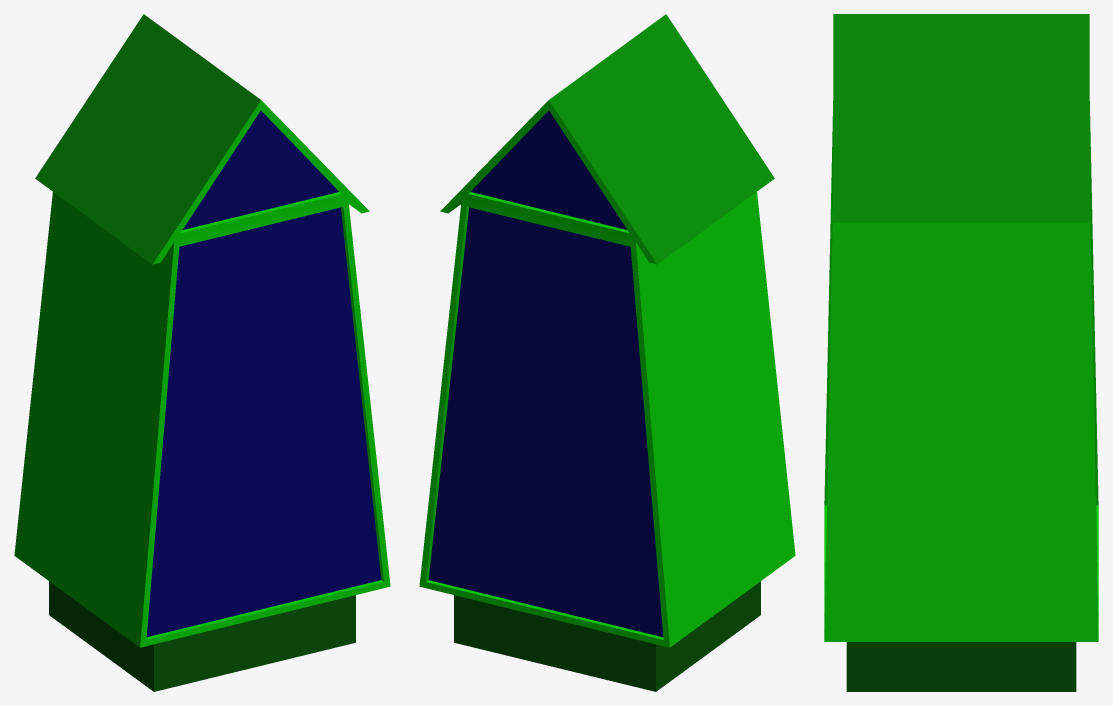
Rendered from Windmill_01.fbx.
3 views of the same model, side by side, from view 1: azimuth 30°, elevation 25°; view 2: azimuth 150°, elevation 25°; view 3: azimuth 270°, elevation 25° (orthographic). The views are drawn at different scales.
Parts seen in each view (by area): view 1: Windmill_01; view 2: Windmill_01; view 3: Windmill_01.
Boxes of the visible parts, x1,y1,x2,y2 form: Windmill_01: (14,14,390,691); Windmill_01: (419,14,795,691); Windmill_01: (824,14,1098,691).
Size of the model in its own units: 138 by 301 by 120.
